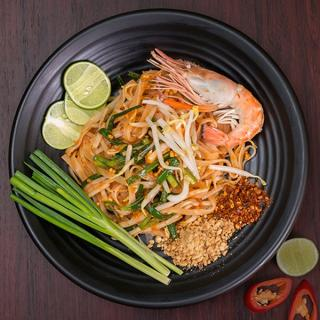carbs: (86, 91, 226, 219)
meat: (166, 60, 260, 147)
pad_thai: (40, 65, 258, 266)
veg: (18, 158, 175, 284), (49, 65, 105, 146)
